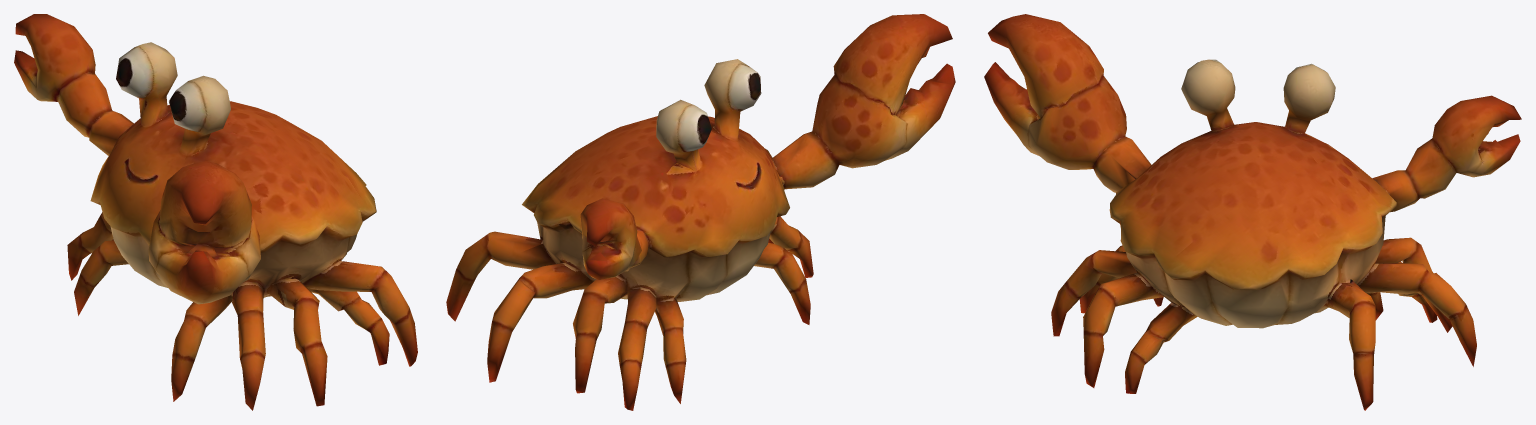
The model's file is turtle-posed-crab.glb.
3 renders of one model, left to right at view 1: azimuth 30°, elevation 25°; view 2: azimuth 150°, elevation 25°; view 3: azimuth 270°, elevation 25°, orthographic. The views are drawn at different scales.
Visible parts, largest first — view 1: animal-crab_Walk; view 2: animal-crab_Walk; view 3: animal-crab_Walk.
Part boxes in pixels (x1,y1,x2,y2): animal-crab_Walk: (14, 14, 417, 410); animal-crab_Walk: (446, 14, 955, 410); animal-crab_Walk: (984, 14, 1521, 410).
Bounding box in the file's own units: 0.0743 × 0.0605 × 0.1065.
1 material, 1 textured.
